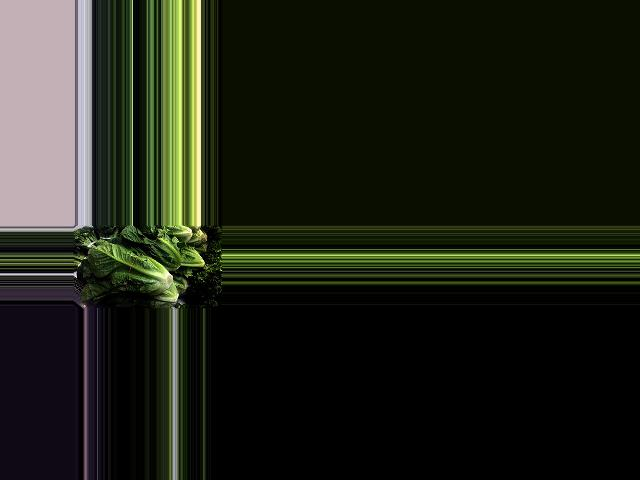lettuce: (118, 228, 184, 269)
